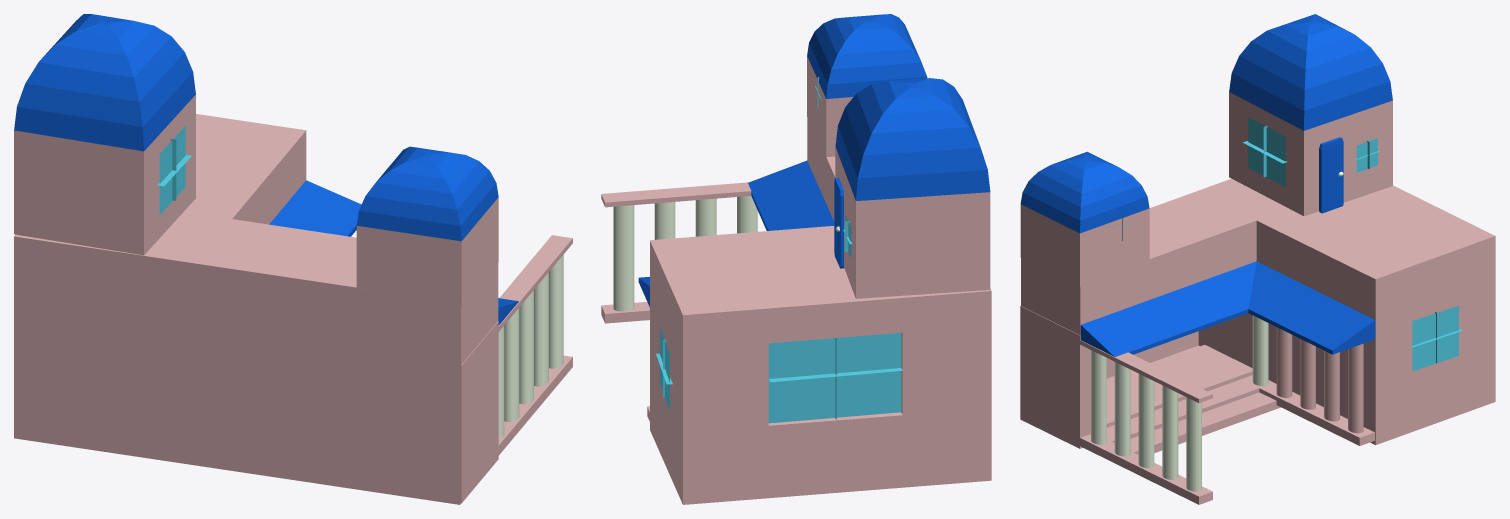
File: Extracteur eau.fbx
3 renders of one model, left to right at view 1: azimuth 30°, elevation 25°; view 2: azimuth 150°, elevation 25°; view 3: azimuth 270°, elevation 25°, orthographic. The views are drawn at different scales.
Visible parts, largest first — view 1: Cube.004; view 2: Cube.004; view 3: Cube.004.
Boxes of the visible parts, box(x1,y1,x2,y2) form: Cube.004: box(14, 14, 572, 504); Cube.004: box(601, 14, 991, 504); Cube.004: box(1020, 14, 1495, 504).
Size of the model in its own units: 5.05 by 5.19 by 3.93.
